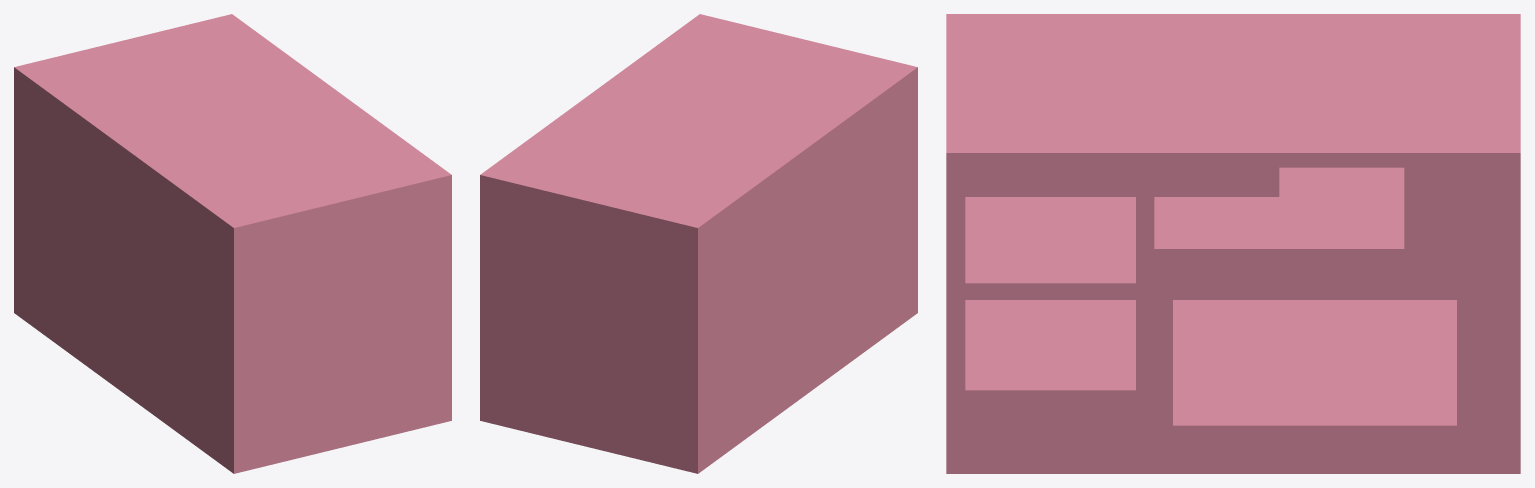
File: wfoeijf.fbx
3 renders of one model, left to right at view 1: azimuth 30°, elevation 25°; view 2: azimuth 150°, elevation 25°; view 3: azimuth 270°, elevation 25°, orthographic. The views are drawn at different scales.
Visible parts, largest first — view 1: Cube.010; view 2: Cube.010; view 3: Cube.010.
Boxes of the visible parts, x1,y1,x2,y2 form: Cube.010: (14, 14, 451, 473); Cube.010: (480, 14, 917, 473); Cube.010: (946, 14, 1520, 473).
Bounding box in the file's own units: 1031 × 1111 × 1802.
